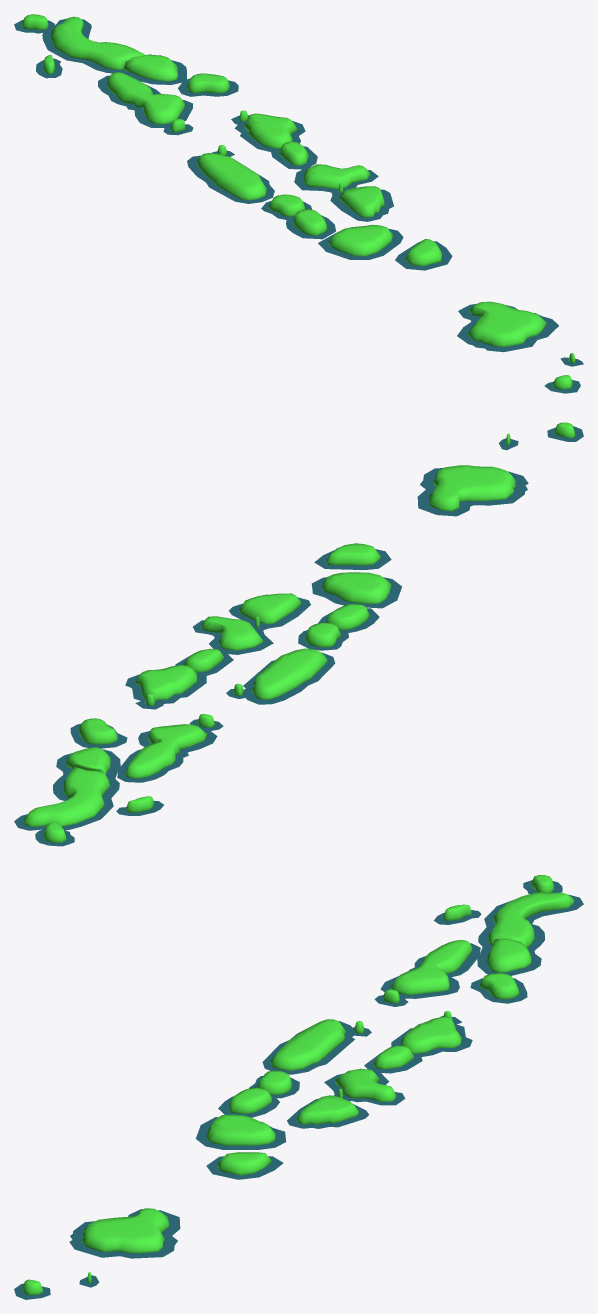
Rendered from Maldives provinces.glb.
The picture shows the model from 3 angles, top to bottom: view 1: azimuth 30°, elevation 25°; view 2: azimuth 150°, elevation 25°; view 3: azimuth 330°, elevation 25°; orthographic projection. The views are drawn at different scales.
Parts seen in each view (by area): view 1: Sealine, North Central Province, North Province, Upper North Pronvince, South Central Province, Central Province, Upper South Province; view 2: Sealine, North Central Province, North Province, Upper North Pronvince, South Central Province, Central Province, Upper South Province; view 3: Sealine, North Central Province, North Province, Upper North Pronvince, South Central Province, Central Province, Upper South Province.
Boxes of the visible parts, x1,y1,x2,y2 form: Sealine: [14, 18, 583, 393]; North Central Province: [197, 110, 370, 200]; North Province: [107, 54, 229, 132]; Upper North Pronvince: [21, 14, 144, 74]; South Central Province: [468, 301, 546, 347]; Central Province: [268, 186, 384, 235]; Upper South Province: [328, 224, 442, 266]; Sealine: [14, 426, 583, 846]; North Central Province: [135, 616, 327, 705]; North Province: [66, 714, 214, 778]; Upper North Pronvince: [24, 766, 154, 842]; South Central Province: [429, 465, 515, 511]; Central Province: [239, 593, 368, 647]; Upper South Province: [322, 543, 391, 603]; Sealine: [14, 880, 583, 1299]; North Central Province: [270, 1011, 462, 1102]; North Province: [383, 939, 531, 1003]; Upper North Pronvince: [443, 875, 573, 947]; South Central Province: [82, 1208, 168, 1253]; Central Province: [229, 1070, 358, 1124]; Upper South Province: [206, 1114, 275, 1175].
Size of the model in its own units: 2.23 by 0.1563 by 13.28.
